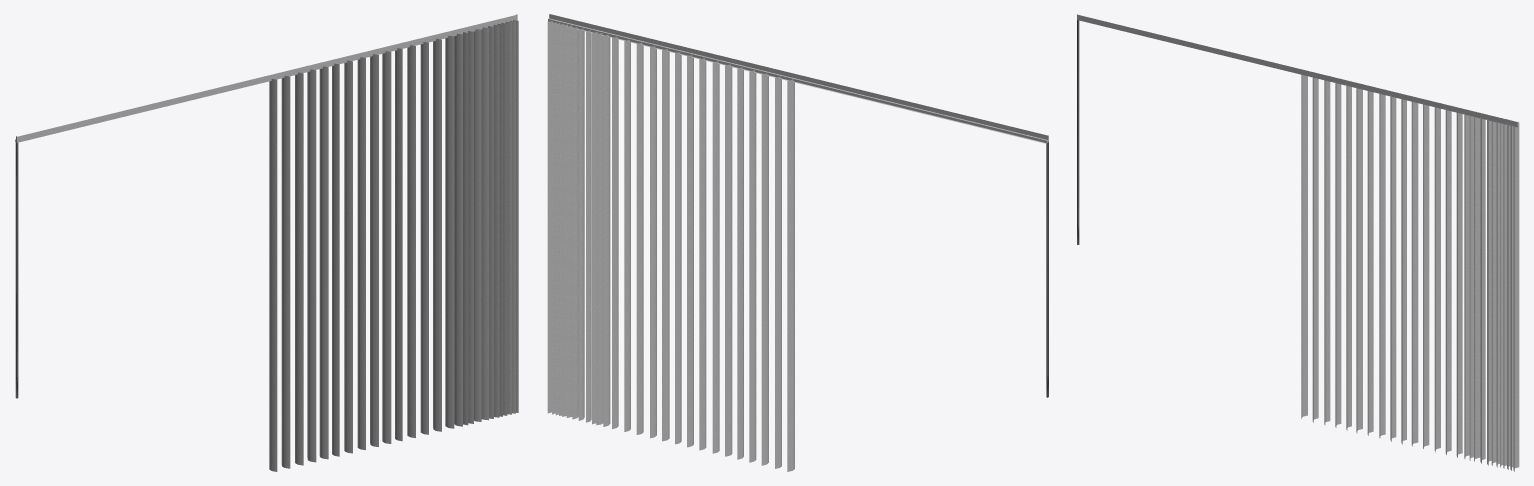
File: Office_Blinds_B.fbx
The picture shows the model from 3 angles, left to right: view 1: azimuth 30°, elevation 25°; view 2: azimuth 150°, elevation 25°; view 3: azimuth 330°, elevation 25°; orthographic projection. The views are drawn at different scales.
Parts seen in each view (by area): view 1: Office_Blinds_B; view 2: Office_Blinds_B; view 3: Office_Blinds_B.
Part boxes in pixels (box(x1,y1,x2,y2)): Office_Blinds_B: box(15, 14, 518, 471); Office_Blinds_B: box(547, 14, 1048, 471); Office_Blinds_B: box(1077, 14, 1519, 471).
Size of the model in its own units: 344 by 260 by 8.4.
